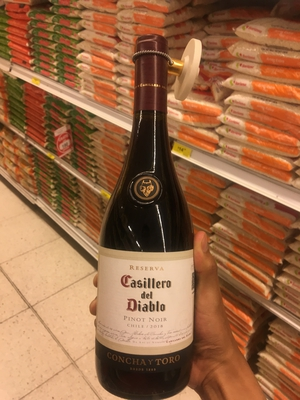casillero del diablo pinot noir: (79, 37, 220, 385)
